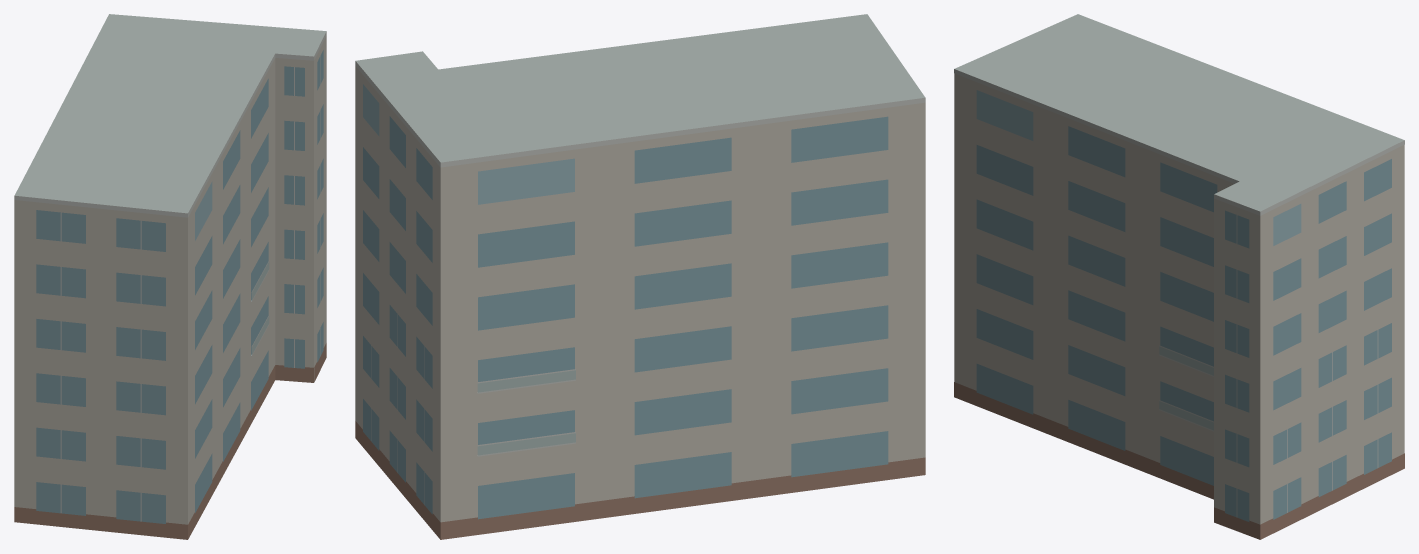
The model's file is survey-upis-32534259.glb.
3 views of the same model, side by side, from view 1: azimuth 30°, elevation 25°; view 2: azimuth 150°, elevation 25°; view 3: azimuth 270°, elevation 25° (orthographic). The views are drawn at different scales.
Visible parts, largest first — view 1: survey-upis-32534259.tmp; view 2: survey-upis-32534259.tmp; view 3: survey-upis-32534259.tmp.
Boxes of the visible parts, x1,y1,x2,y2 form: survey-upis-32534259.tmp: (14,14,326,539); survey-upis-32534259.tmp: (355,14,925,539); survey-upis-32534259.tmp: (954,14,1404,539).
Bounding box in the file's own units: 24.02 × 18.6 × 23.15.
